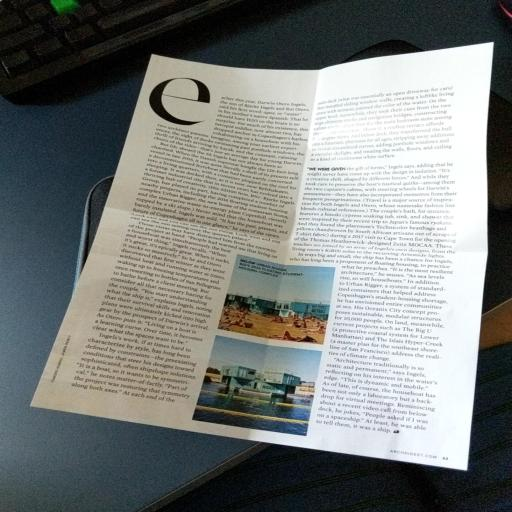paper: (13, 16, 512, 496)
